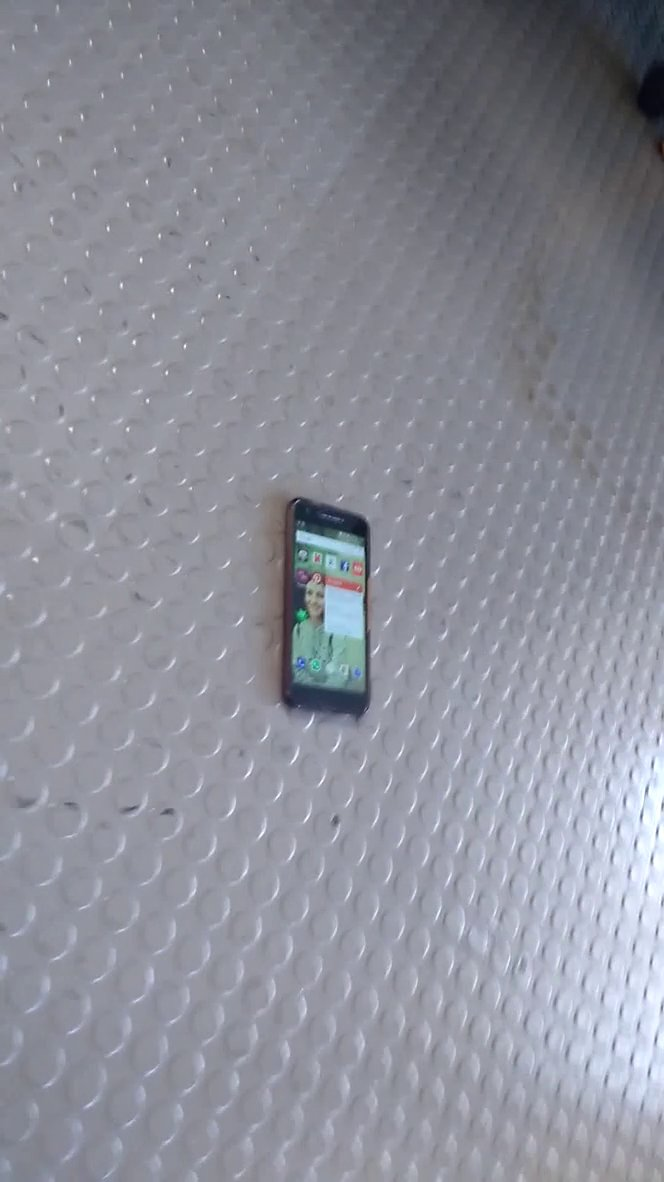phone: (263, 485, 390, 730)
